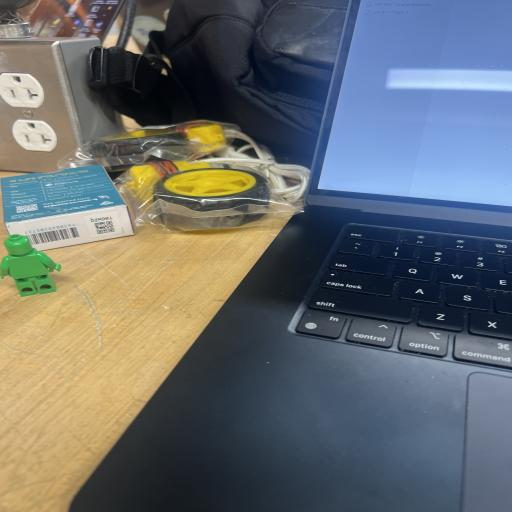green-lego-minifigure-detector: (0, 234, 61, 297)
